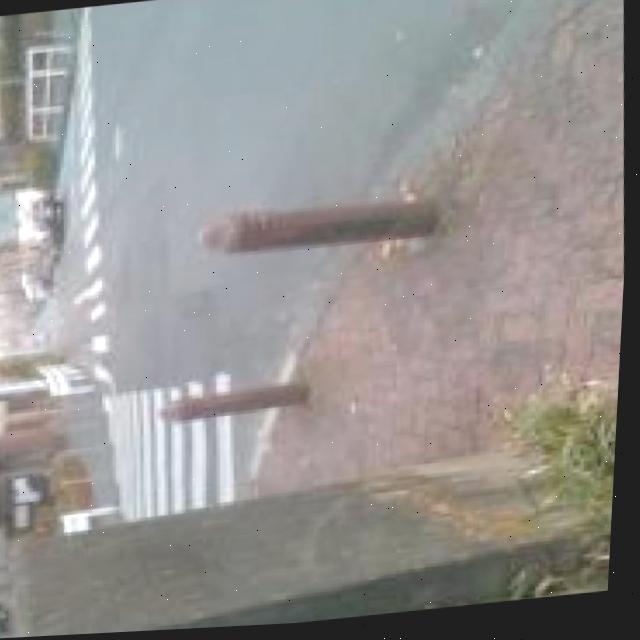Obstacle: (38, 488, 498, 637), (510, 381, 623, 555), (204, 202, 441, 256), (166, 386, 314, 423)
Road: (84, 0, 522, 391), (42, 8, 116, 384), (111, 391, 272, 522)
Sidewalk: (274, 0, 627, 479)
